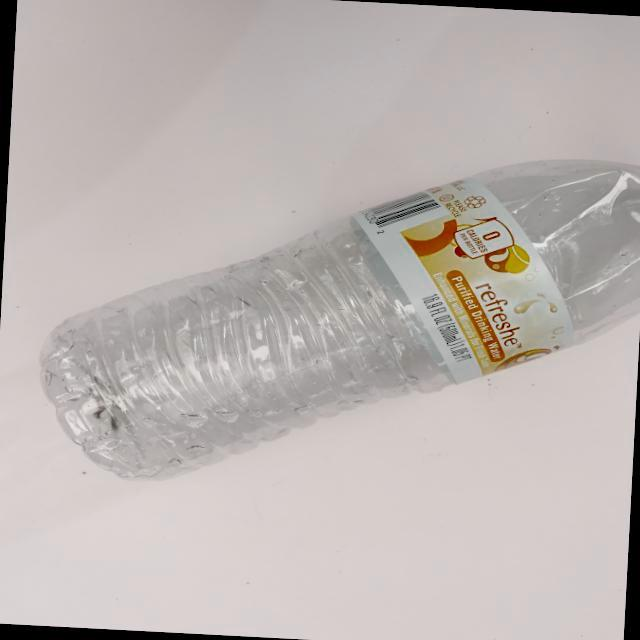plastic: (9, 101, 640, 531)
